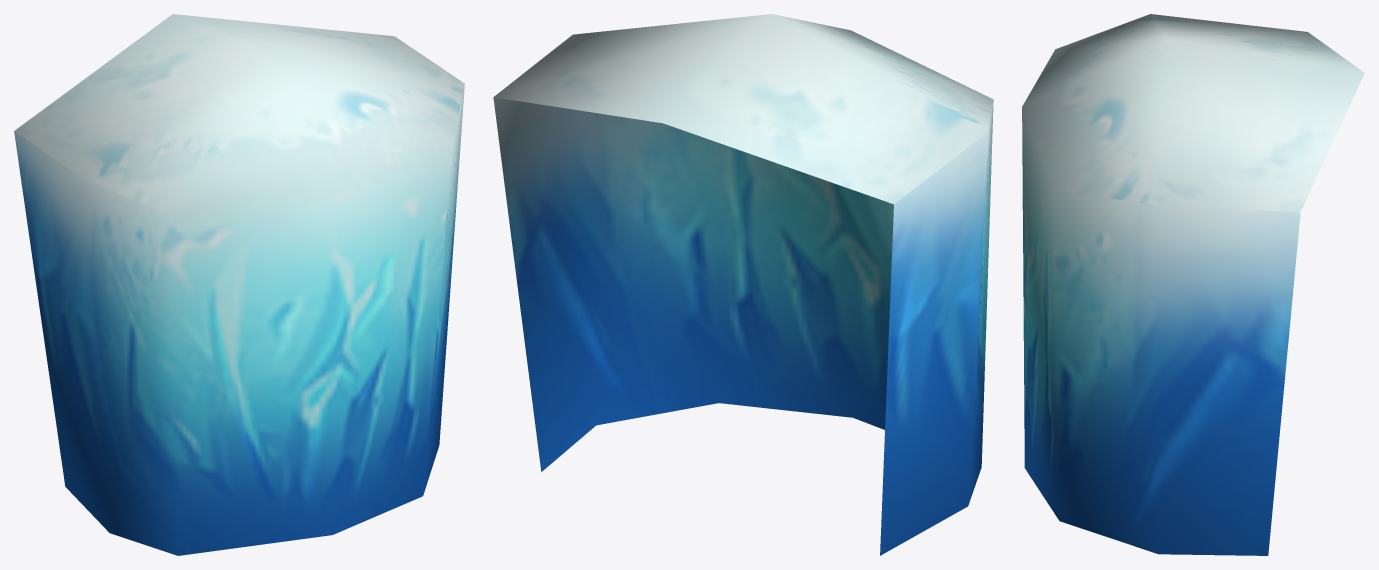
The model's file is Chapter3Scene1Model2Lod.FBX.
3 views of the same model, side by side, from view 1: azimuth 30°, elevation 25°; view 2: azimuth 150°, elevation 25°; view 3: azimuth 270°, elevation 25° (orthographic). The views are drawn at different scales.
Visible parts, largest first — view 1: Chapter3Scene1Model2Lod; view 2: Chapter3Scene1Model2Lod; view 3: Chapter3Scene1Model2Lod.
Boxes of the visible parts, x1=… form: Chapter3Scene1Model2Lod: x1=14, y1=14, x2=464, y2=555; Chapter3Scene1Model2Lod: x1=493, y1=14, x2=993, y2=555; Chapter3Scene1Model2Lod: x1=1022, y1=14, x2=1364, y2=555.
Bounding box in the file's own units: 114 × 86.98 × 122.
